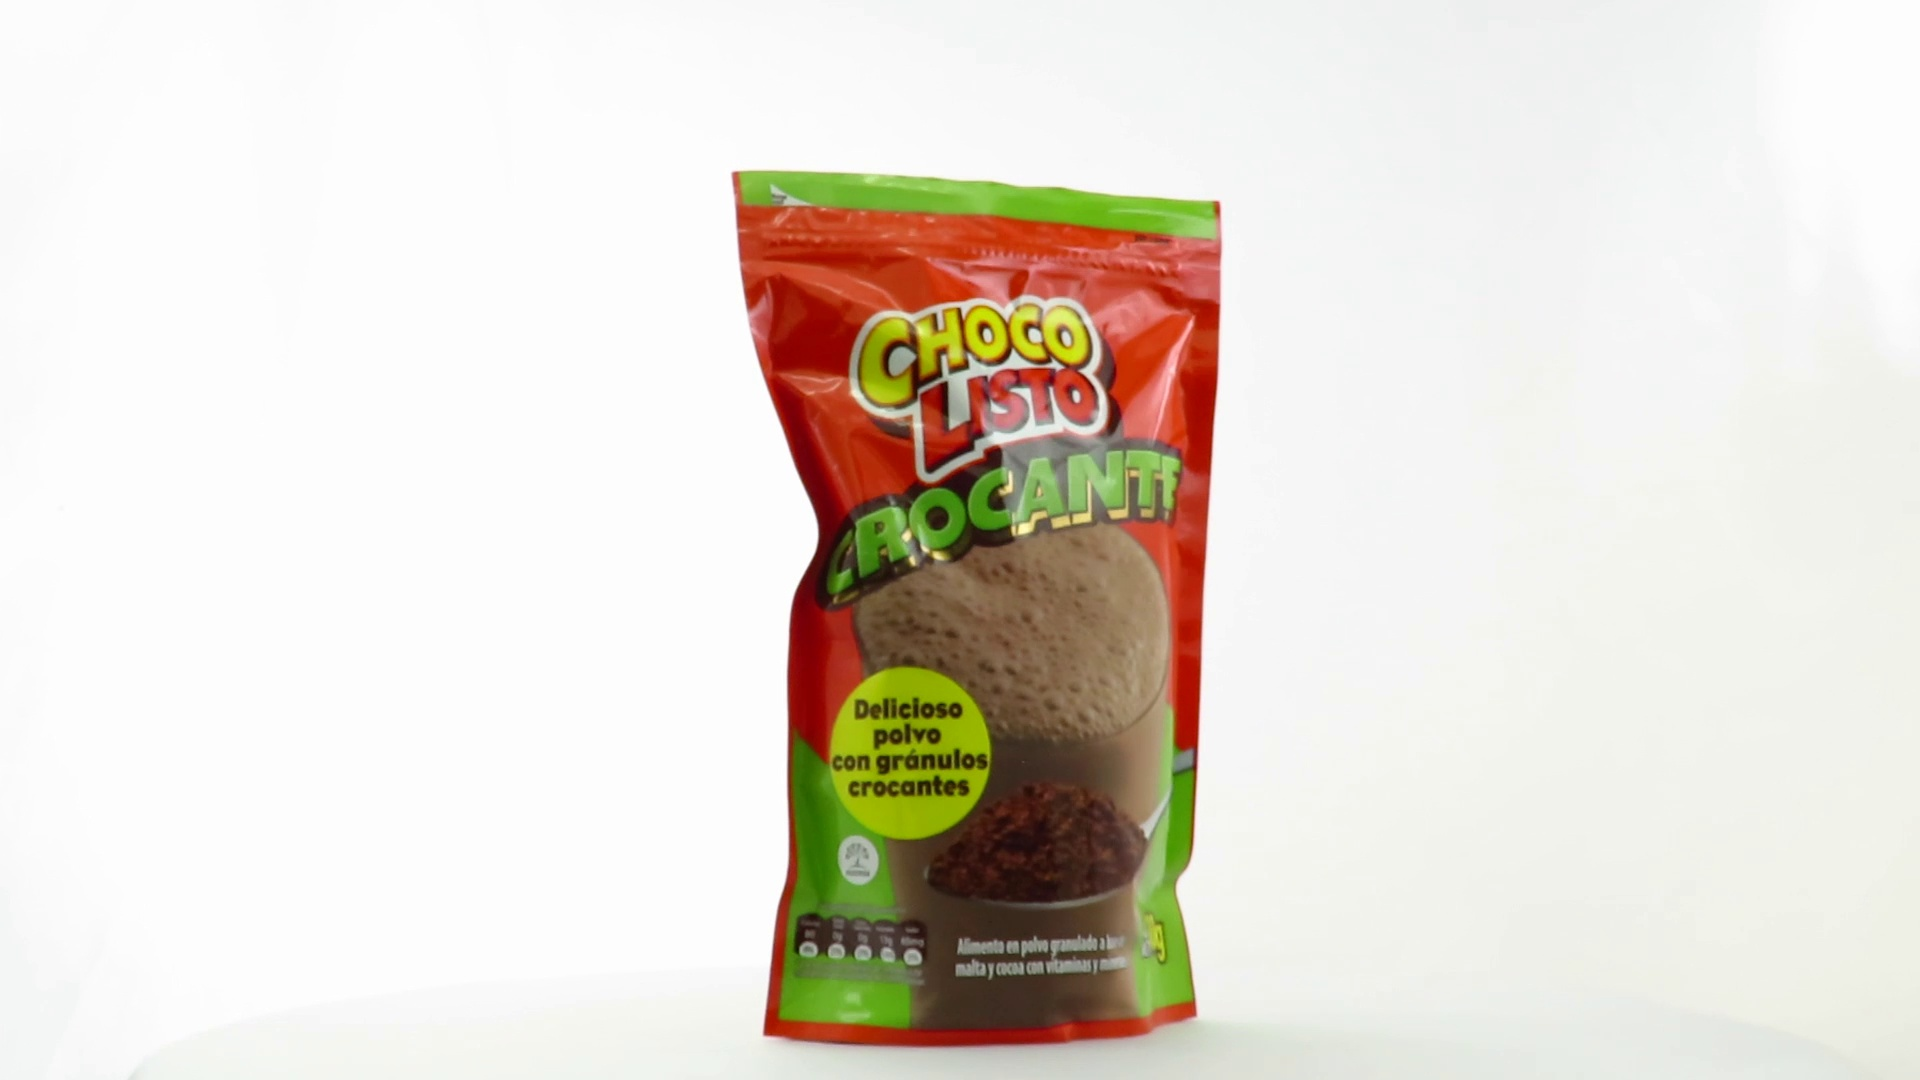COL0170102DYP50000: (727, 165, 1228, 1054)
